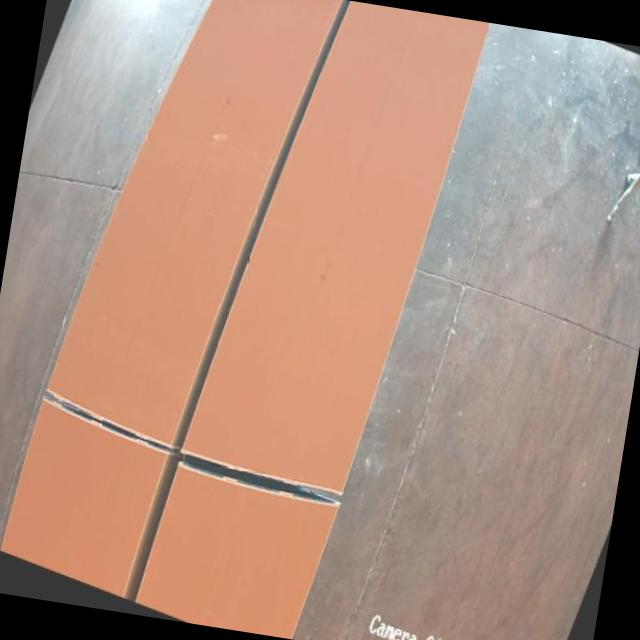person: (599, 120, 640, 253)
